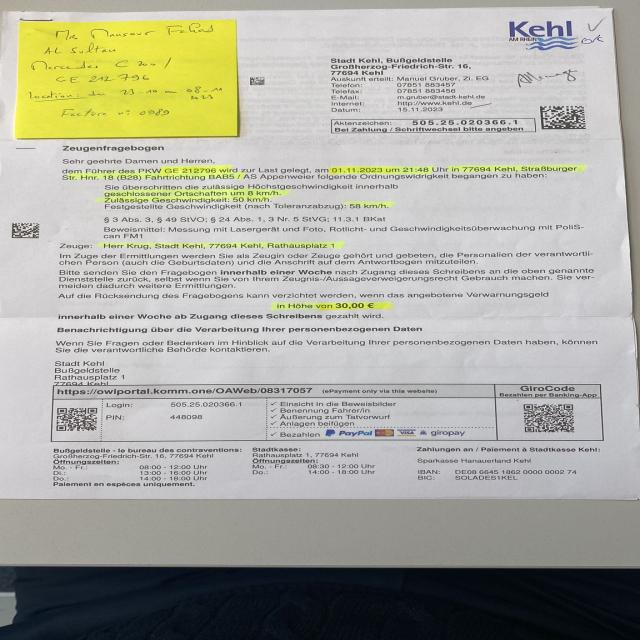paper-document-: (2, 10, 640, 499)
